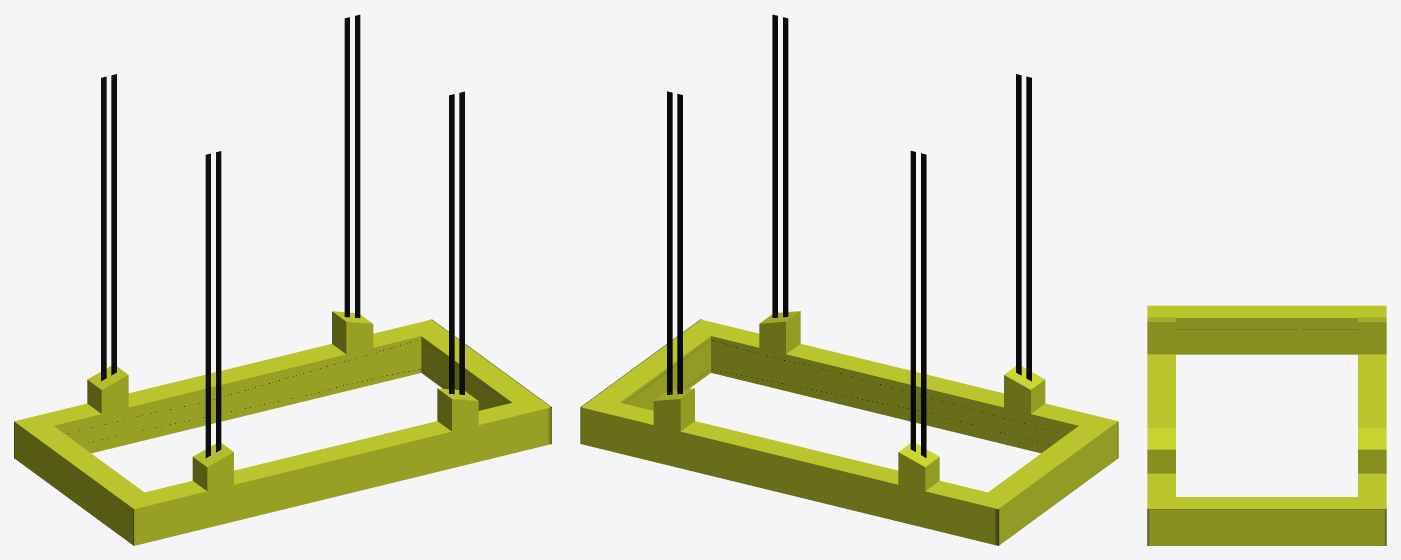
Rendered from crane.fbx.
The picture shows the model from 3 angles, left to right: view 1: azimuth 30°, elevation 25°; view 2: azimuth 150°, elevation 25°; view 3: azimuth 270°, elevation 25°; orthographic projection.
Visible parts, largest first — view 1: container crane; view 2: container crane; view 3: container crane.
Boxes of the visible parts, <box> form: container crane: <box>14,14,551,545</box>; container crane: <box>580,14,1118,545</box>; container crane: <box>1147,305,1386,545</box>.
Bounding box in the file's own units: 419 × 351 × 208.
